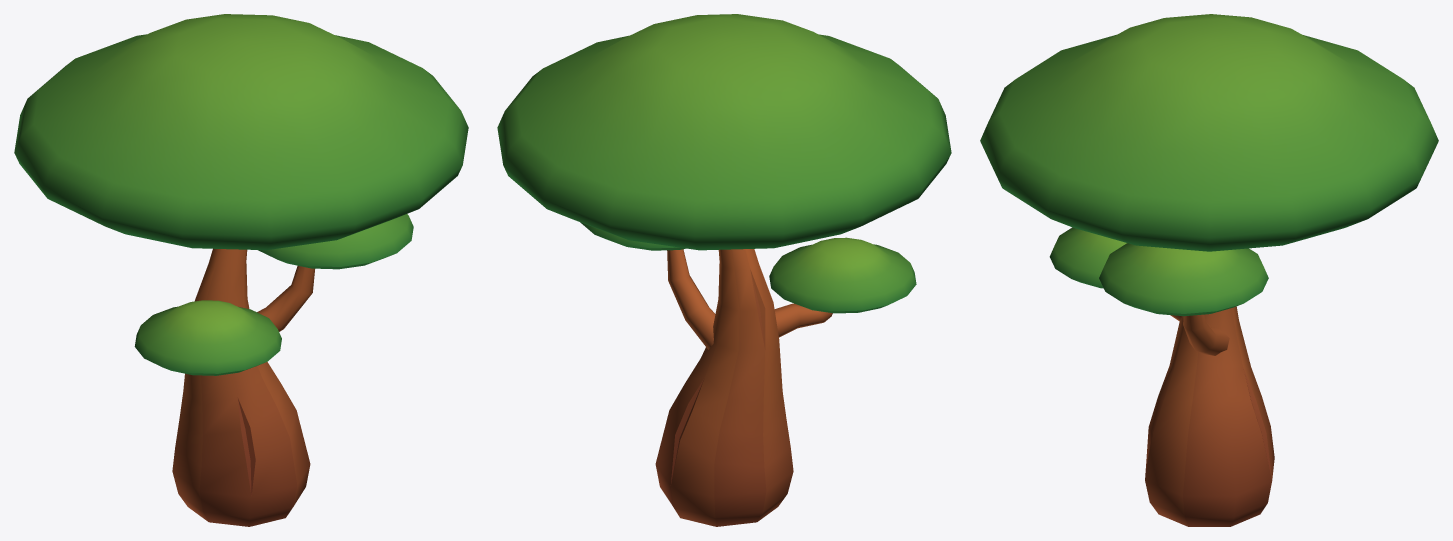
File: Tree_3_A.glb
3 views of the same model, side by side, from view 1: azimuth 30°, elevation 25°; view 2: azimuth 150°, elevation 25°; view 3: azimuth 270°, elevation 25° (orthographic).
Bounding box in the file's own units: 3.09 × 3.51 × 3.09.
